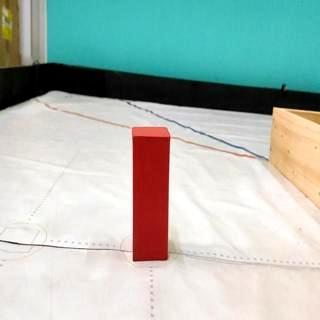redbox: (130, 125, 171, 262)
